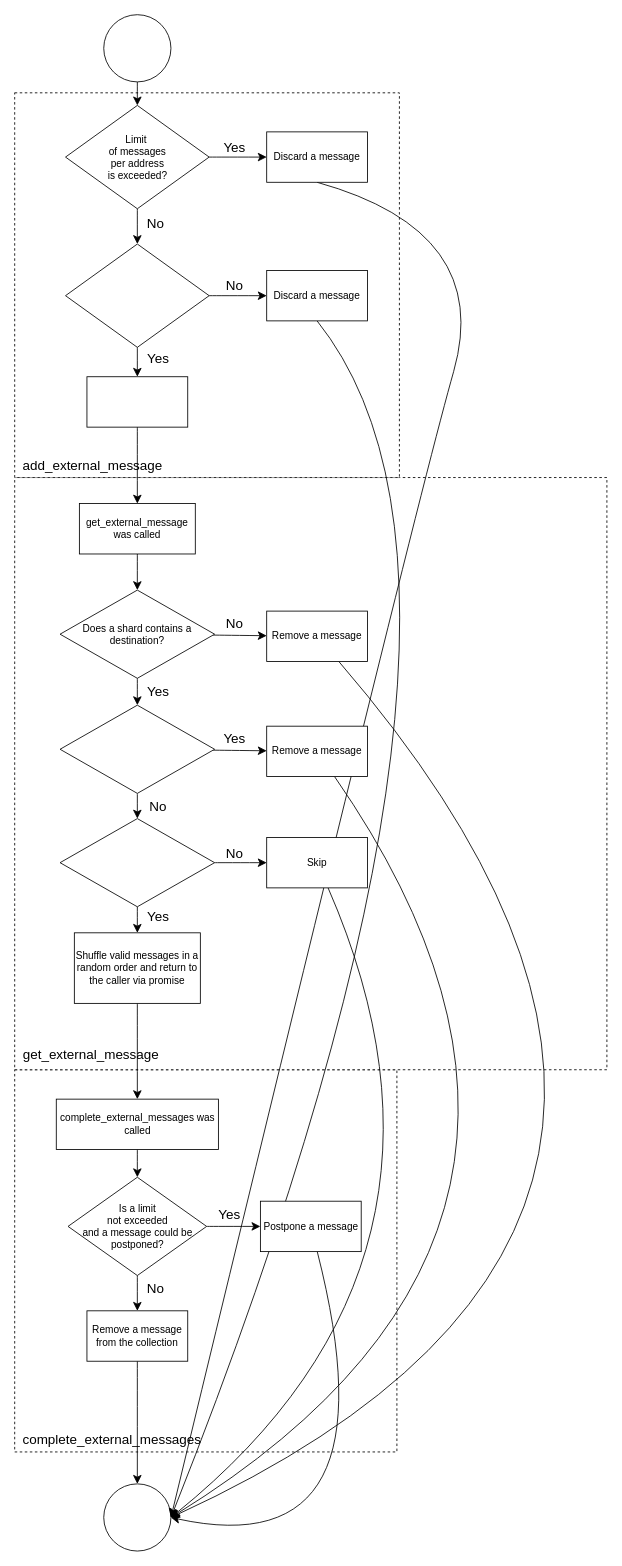
This 622x1566 diagram has some shape labels left out. Each missing label, with the centre of its shape:
"Add a message to the internal collection" belongs at [137,401].
"End" belongs at [137,1517].
"If there is a duplicate, does a new message has a higher priority?" belongs at [137,295].
"Is a message active?" belongs at [137,862].
"Is a message expired?" belongs at [137,748].
"Start" belongs at [137,48].
